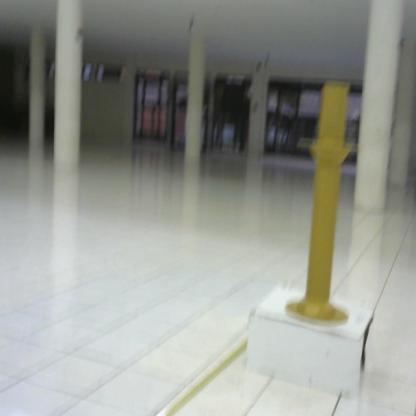pole: (279, 78, 366, 334)
